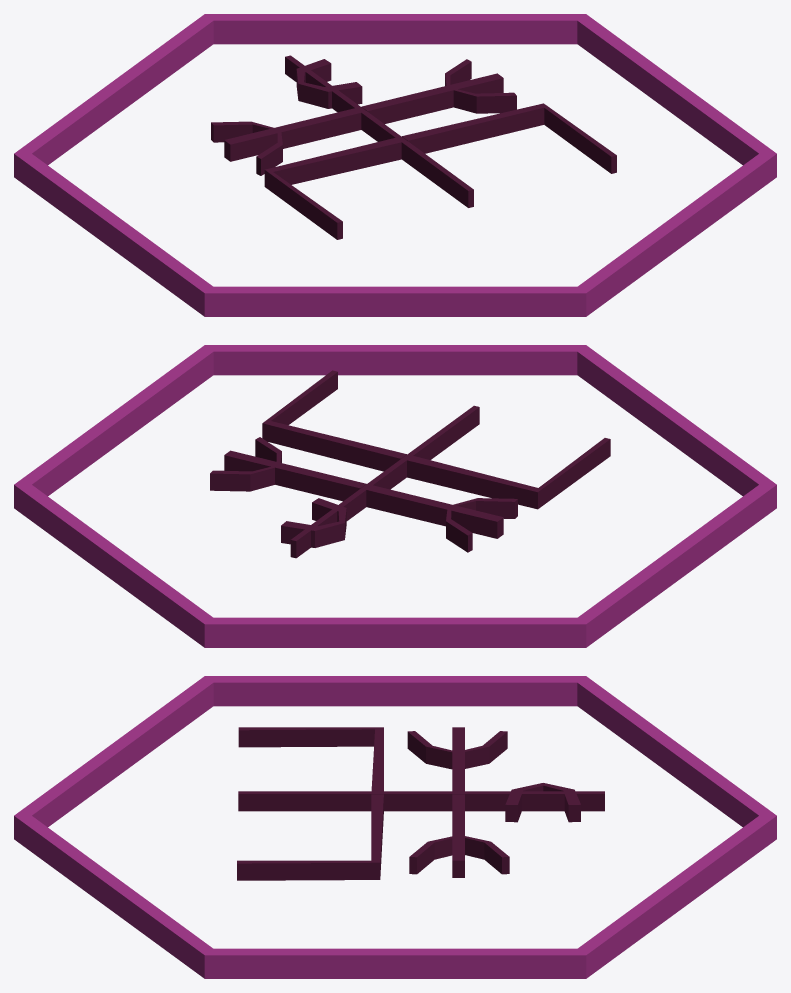
File: Runa activa condicional 2.0.fbx
The picture shows the model from 3 angles, top to bottom: view 1: azimuth 30°, elevation 25°; view 2: azimuth 150°, elevation 25°; view 3: azimuth 270°, elevation 25°; orthographic projection.
Parts seen in each view (by area): view 1: Plane.001; view 2: Plane.001; view 3: Plane.001.
Part boxes in pixels (x1=…): Plane.001: x1=14, y1=14, x2=776, y2=316; Plane.001: x1=14, y1=345, x2=776, y2=647; Plane.001: x1=14, y1=676, x2=776, y2=978.
Bounding box in the file's own units: 809 × 61 × 934.
